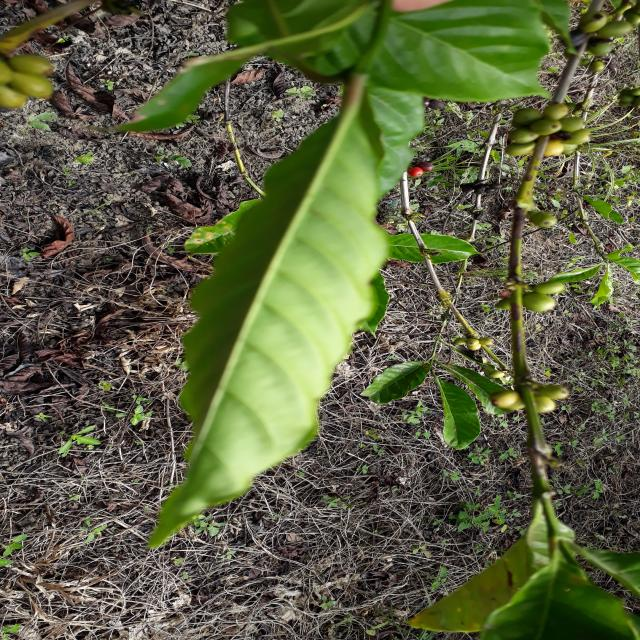Sanas: (146, 75, 391, 550)
